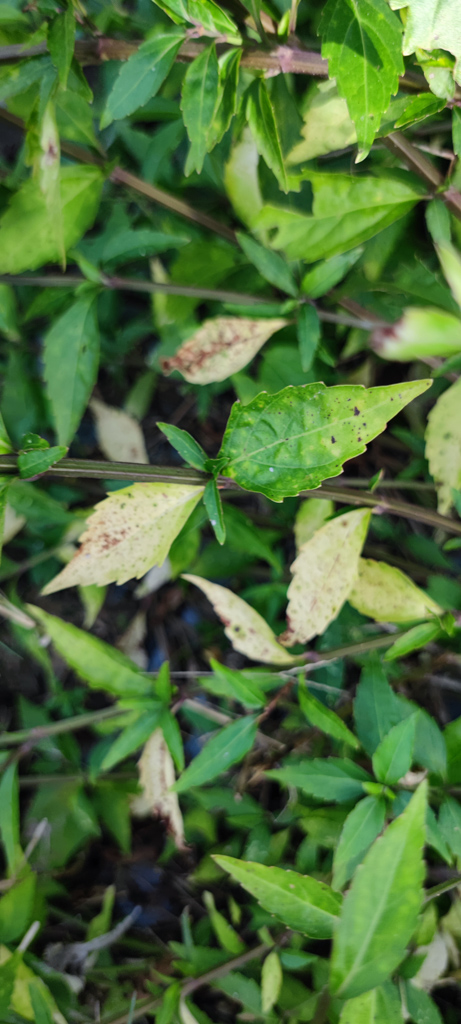Pepper yellow leaf: (38, 480, 201, 598), (276, 508, 374, 648), (182, 565, 304, 667), (158, 309, 295, 389), (346, 551, 450, 628), (276, 100, 365, 166), (367, 308, 457, 363), (423, 377, 457, 520), (93, 394, 152, 464)
